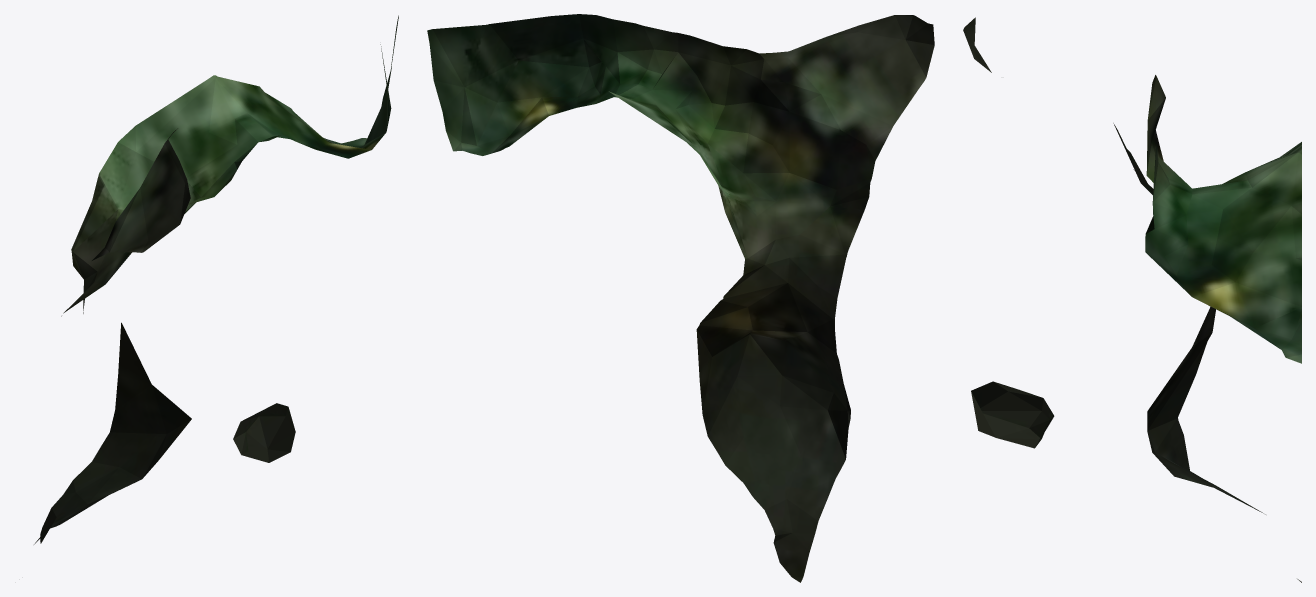
The picture shows the model from 3 angles, left to right: view 1: azimuth 30°, elevation 25°; view 2: azimuth 150°, elevation 25°; view 3: azimuth 270°, elevation 25°; orthographic projection. The views are drawn at different scales.
Bounding box in the file's own units: 0.5767 × 0.6808 × 0.3681.
1 material, 1 textured.
